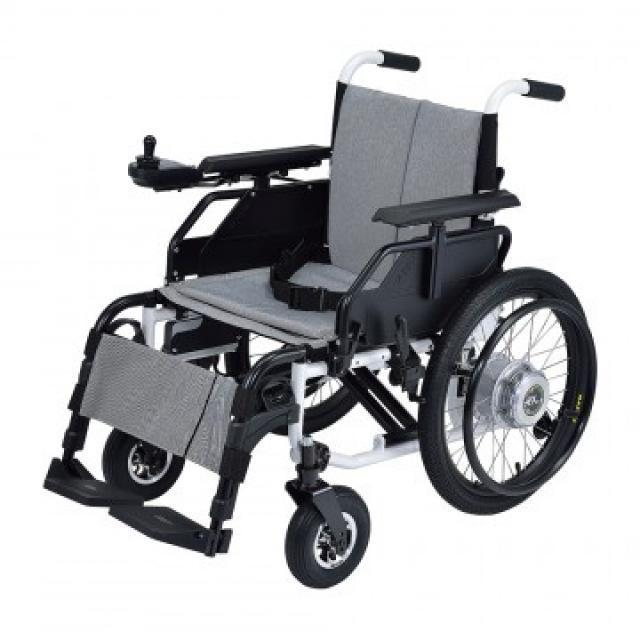wheelchairs: (51, 45, 600, 591)
